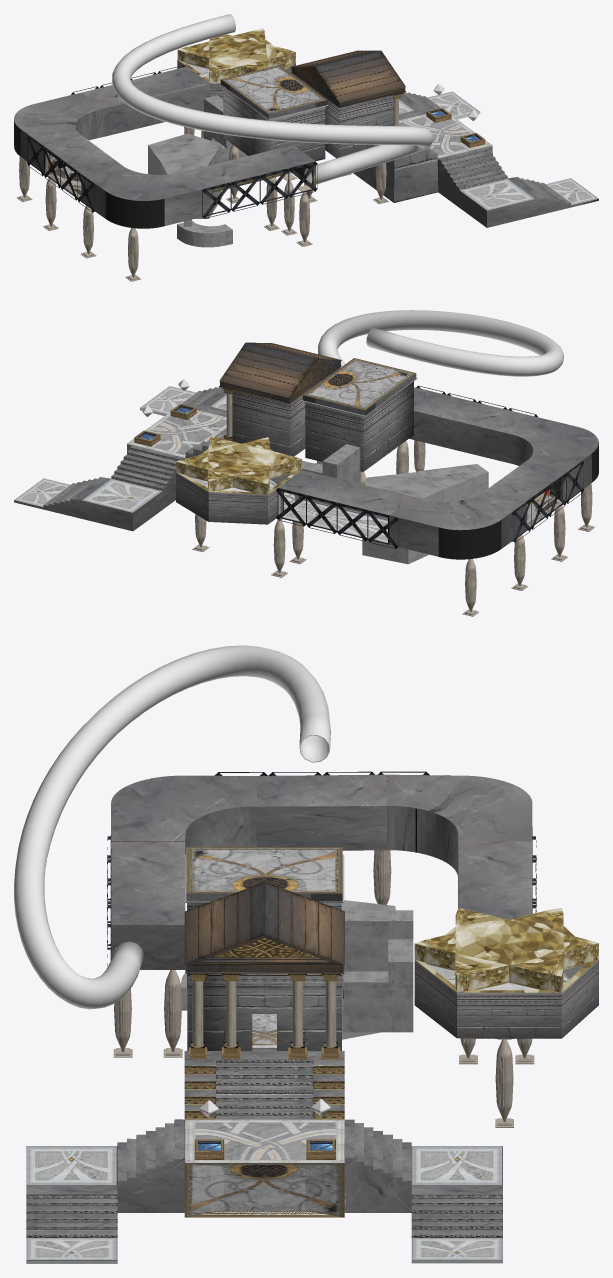
Rendered from Finalmente.fbx.
3 renders of one model, top to bottom at view 1: azimuth 30°, elevation 25°; view 2: azimuth 150°, elevation 25°; view 3: azimuth 270°, elevation 25°, orthographic. The views are drawn at different scales.
Visible parts, largest first — view 1: Cube.006, NurbsPath; view 2: Cube.006, NurbsPath; view 3: Cube.006, NurbsPath.
Boxes of the visible parts, x1,y1,x2,y2 form: Cube.006: (14, 28, 598, 281); NurbsPath: (112, 14, 433, 184); Cube.006: (14, 342, 598, 616); NurbsPath: (318, 310, 563, 376); Cube.006: (26, 771, 598, 1263); NurbsPath: (14, 645, 330, 1009).
Size of the model in its own units: 8855 by 3582 by 6159.
